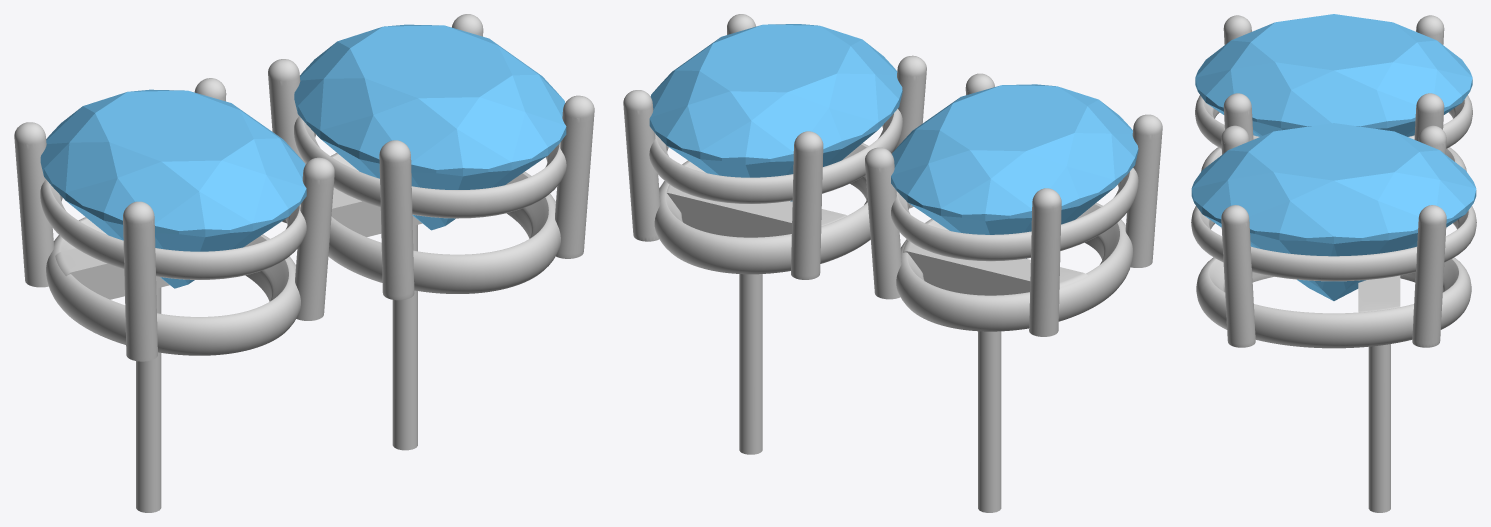
Rendered from Cynthia Hanssen Topaz Earring.glb.
The picture shows the model from 3 angles, left to right: view 1: azimuth 30°, elevation 25°; view 2: azimuth 150°, elevation 25°; view 3: azimuth 270°, elevation 25°; orthographic projection. The views are drawn at different scales.
Visible parts, largest first — view 1: Cyn PT earring for 3d model, Cyn topaz earring for 3d model, Cyn topaz earring for 3d model.001; view 2: Cyn PT earring for 3d model, Cyn topaz earring for 3d model, Cyn topaz earring for 3d model.001; view 3: Cyn PT earring for 3d model, Cyn topaz earring for 3d model, Cyn topaz earring for 3d model.001.
Boxes of the visible parts, x1,y1,x2,y2 form: Cyn PT earring for 3d model: [14, 14, 594, 512]; Cyn topaz earring for 3d model: [294, 24, 566, 230]; Cyn topaz earring for 3d model.001: [40, 89, 306, 288]; Cyn PT earring for 3d model: [623, 14, 1162, 512]; Cyn topaz earring for 3d model: [649, 24, 902, 201]; Cyn topaz earring for 3d model.001: [891, 84, 1138, 258]; Cyn PT earring for 3d model: [1191, 15, 1476, 512]; Cyn topaz earring for 3d model: [1191, 123, 1476, 300]; Cyn topaz earring for 3d model.001: [1195, 14, 1472, 136].
Bounding box in the file's own units: 17.42 × 14.02 × 10.19.
